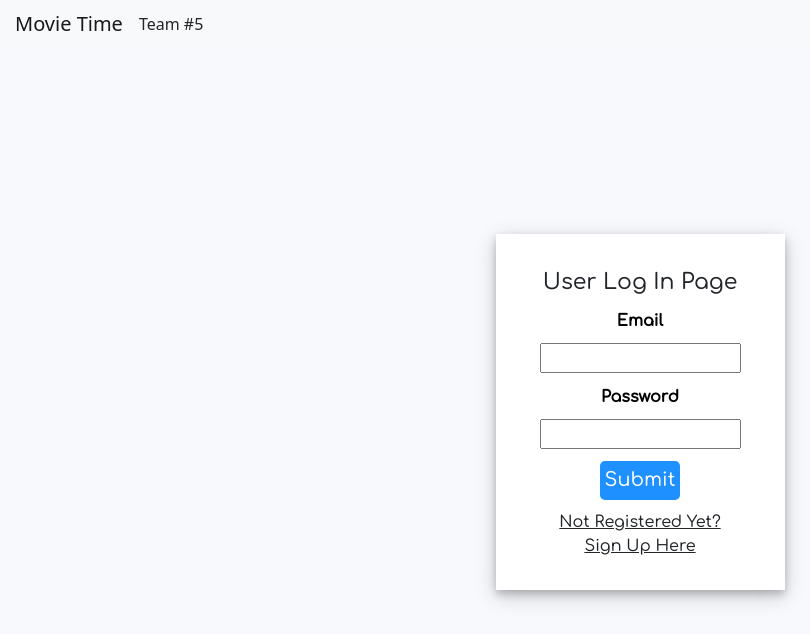
LogIn component › should display an error message when password is invalid
The width and height of the screenshot is (810, 634).
Type "test@test.com" into the field labelled "Email" at (640, 358), box [540, 343, 740, 373]
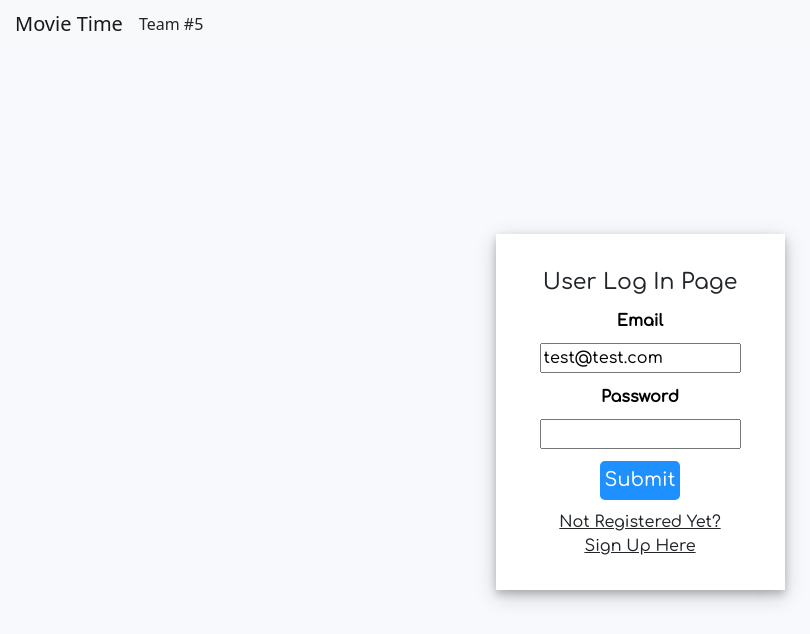
Type "password" into the password field labelled "Password" at (640, 434), box [540, 419, 740, 449]
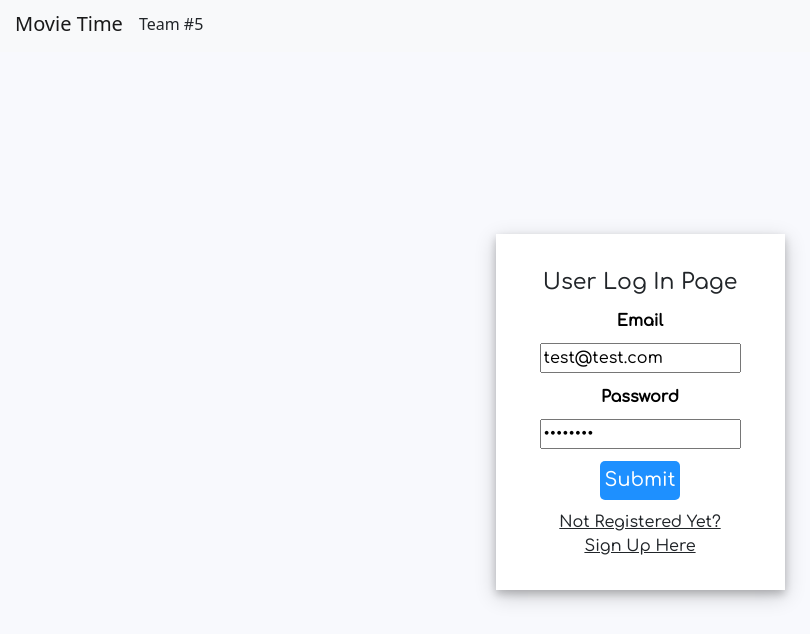
Click the button with test id "submit-button" at (640, 480), box [600, 461, 680, 500]
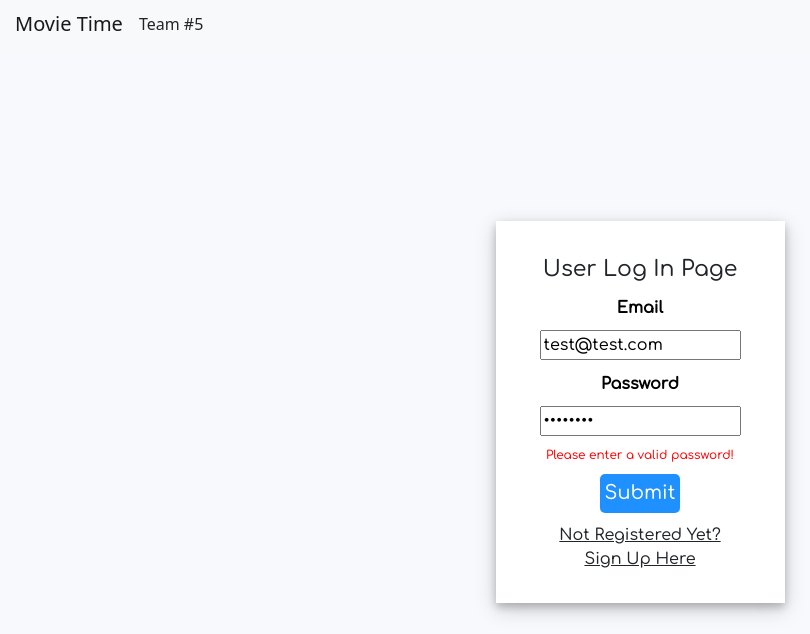
Expected: the text "Please enter a valid password!" is shown, [538, 446, 742, 464]
